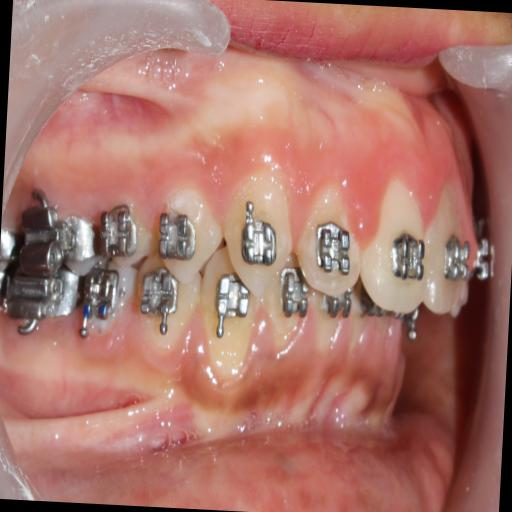correct_brace: (155, 188, 226, 280), (236, 200, 282, 274), (311, 218, 354, 280), (390, 232, 428, 286)
incorrect_brace: (295, 184, 365, 294), (156, 210, 204, 266)
